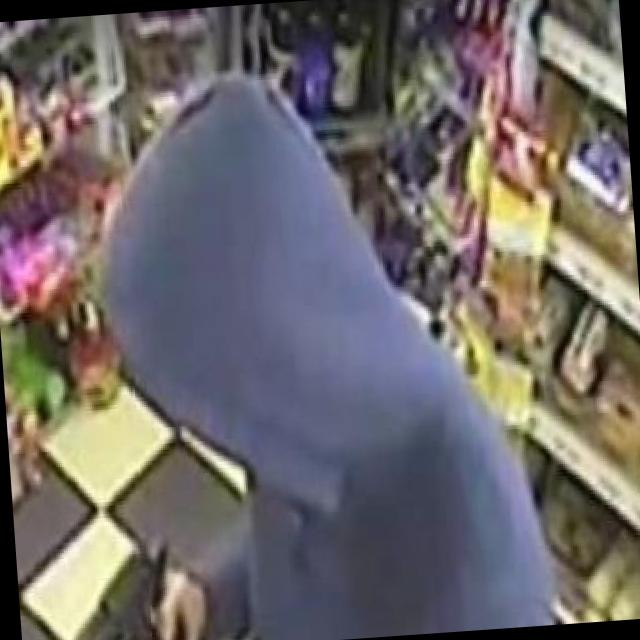Guns: (17, 507, 210, 640)
